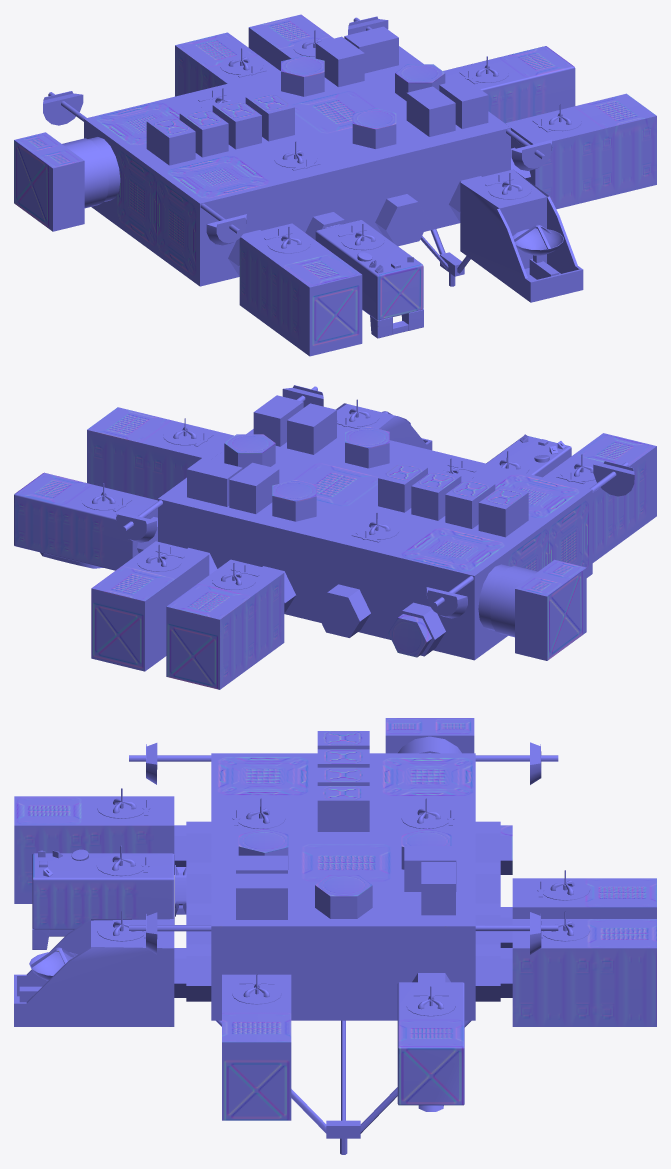
The model's file is IssModule_I 1.FBX.
3 renders of one model, top to bottom at view 1: azimuth 30°, elevation 25°; view 2: azimuth 150°, elevation 25°; view 3: azimuth 270°, elevation 25°, orthographic. The views are drawn at different scales.
Visible parts, largest first — view 1: IssModule_I; view 2: IssModule_I; view 3: IssModule_I.
Boxes of the visible parts, left/top/right/bottom form: IssModule_I: left=14, top=14, right=656, bottom=356; IssModule_I: left=14, top=385, right=656, bottom=689; IssModule_I: left=14, top=718, right=656, bottom=1154.
Bounding box in the file's own units: 452 × 184 × 415.
